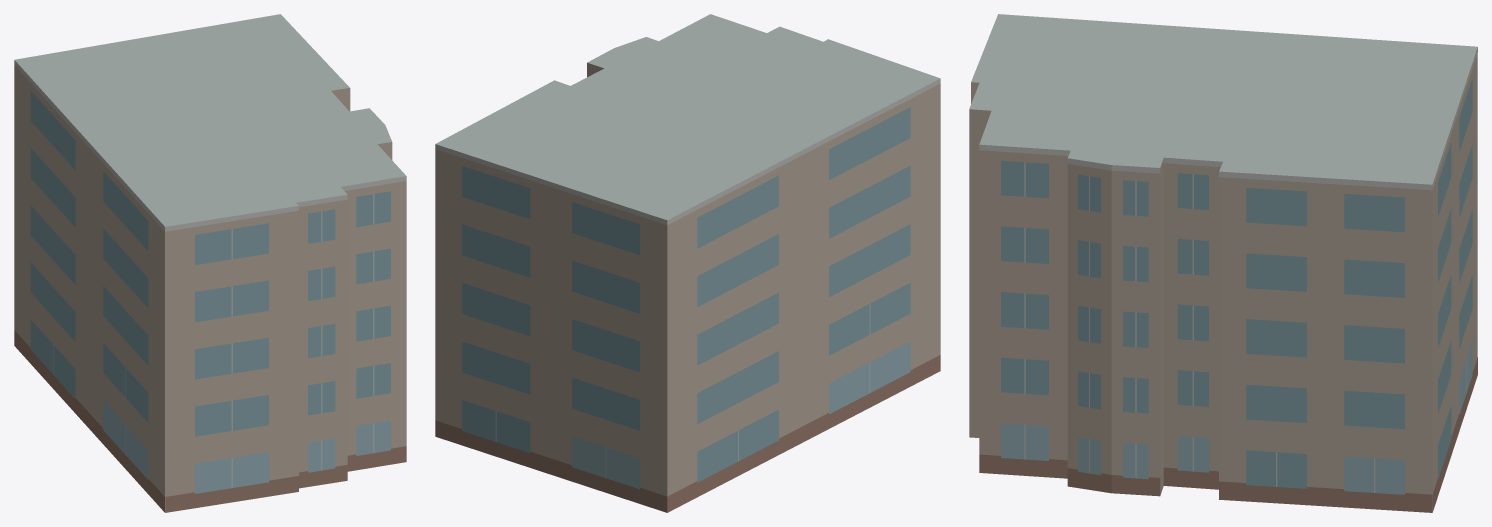
Rendered from survey-upis-32499562.glb.
The picture shows the model from 3 angles, left to right: view 1: azimuth 30°, elevation 25°; view 2: azimuth 150°, elevation 25°; view 3: azimuth 270°, elevation 25°; orthographic projection. The views are drawn at different scales.
Visible parts, largest first — view 1: survey-upis-32499562.tmp; view 2: survey-upis-32499562.tmp; view 3: survey-upis-32499562.tmp.
Part boxes in pixels (x1,y1,x2,y2): survey-upis-32499562.tmp: (14, 14, 406, 512); survey-upis-32499562.tmp: (435, 14, 940, 512); survey-upis-32499562.tmp: (969, 14, 1477, 512).
Bounding box in the file's own units: 16.02 × 14.35 × 20.17.
